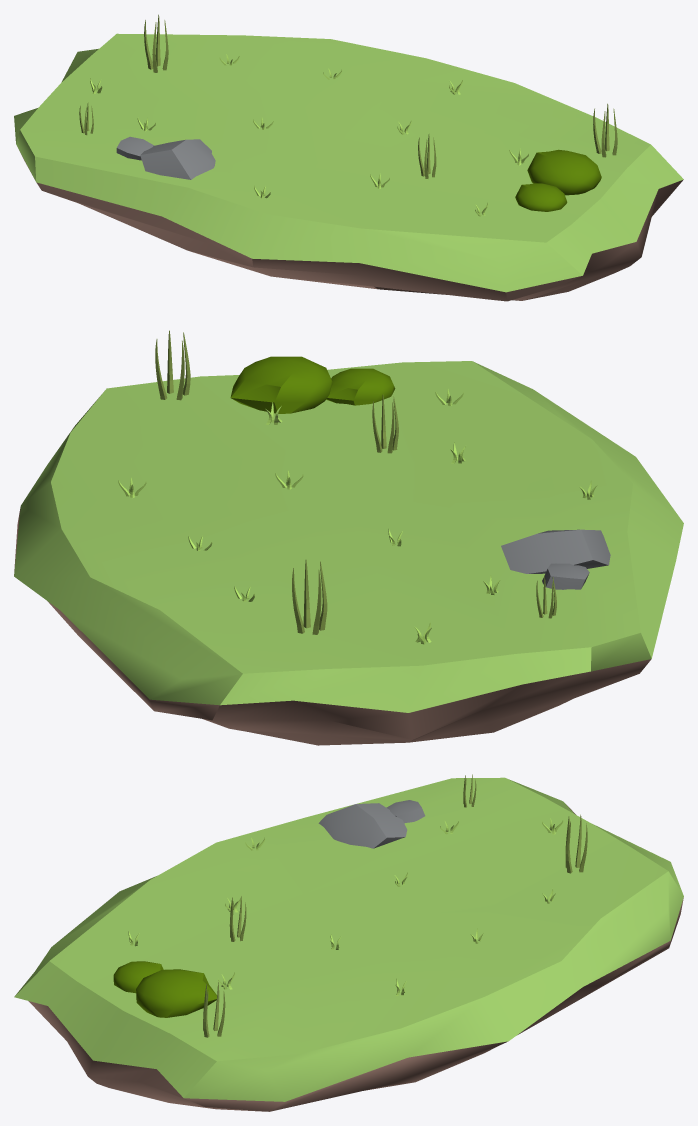
The model's file is small_4_spring.fbx.
3 views of the same model, one above another, from view 1: azimuth 30°, elevation 25°; view 2: azimuth 150°, elevation 25°; view 3: azimuth 270°, elevation 25° (orthographic). The views are drawn at different scales.
Parts seen in each view (by area): view 1: Island_Spring_4.001; view 2: Island_Spring_4.001; view 3: Island_Spring_4.001.
Boxes of the visible parts, x1,y1,x2,y2 form: Island_Spring_4.001: (14,14,683,301); Island_Spring_4.001: (14,330,683,745); Island_Spring_4.001: (14,774,683,1111).
Size of the model in its own units: 3.37 by 0.9885 by 3.61.
